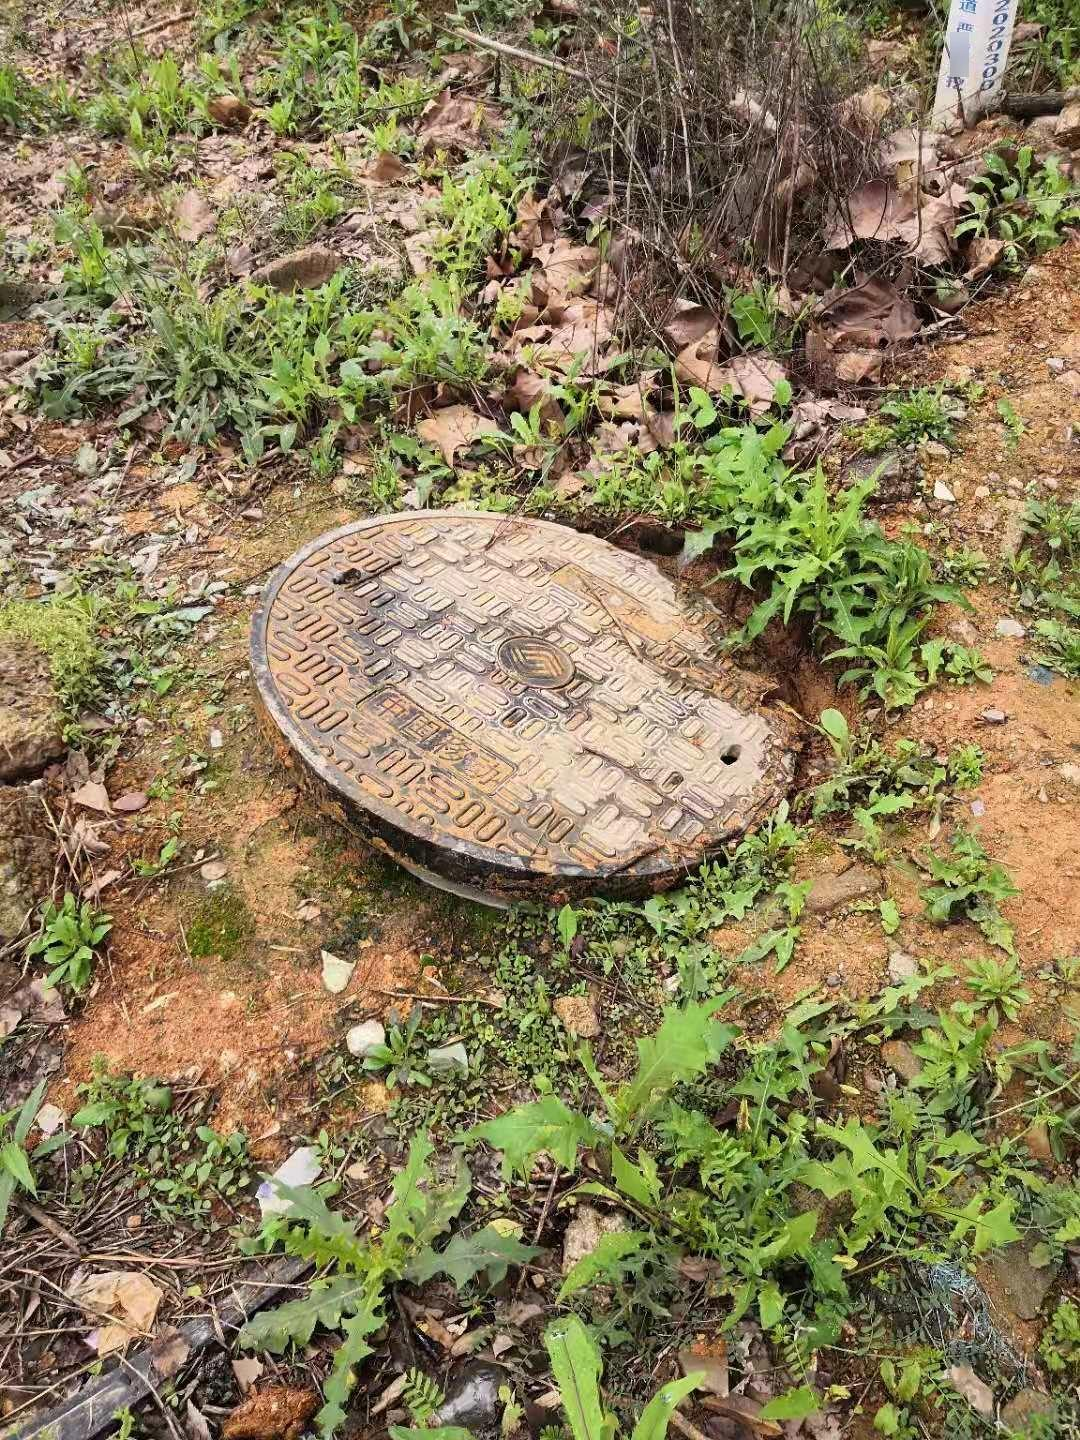wellcover: (251, 491, 858, 925)
